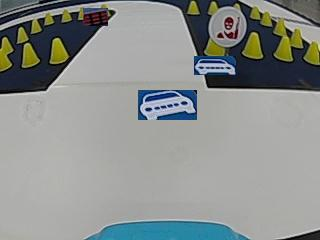evil: (208, 7, 246, 47)
